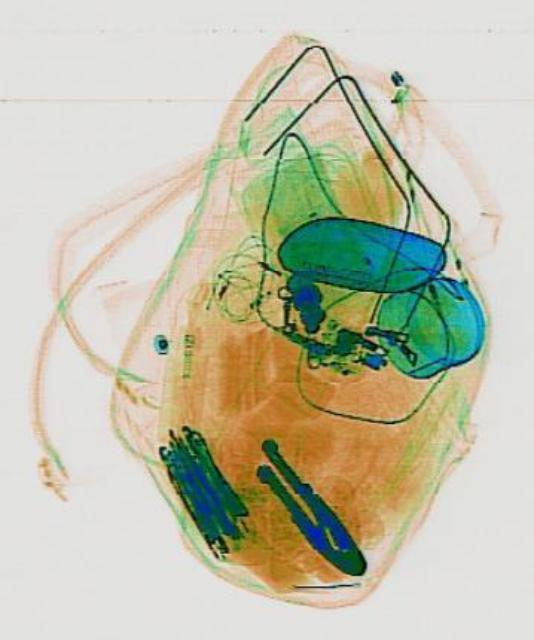Pliers: (241, 429, 373, 587)
